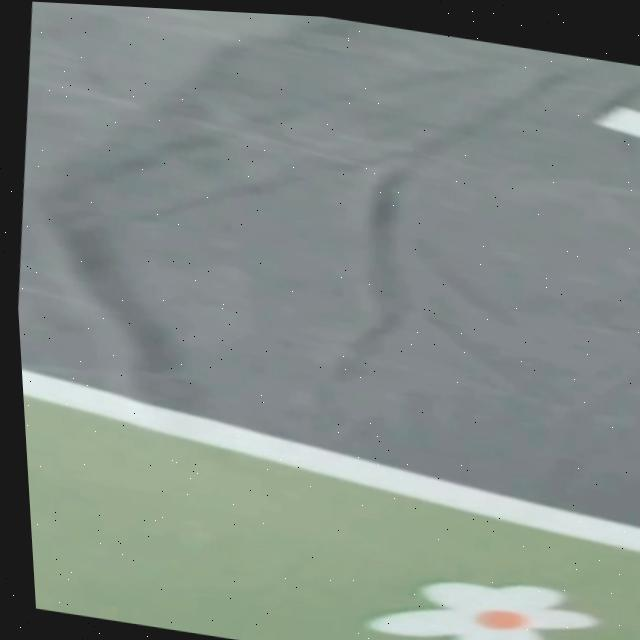center: (594, 106, 640, 135)
right: (22, 367, 640, 550)
